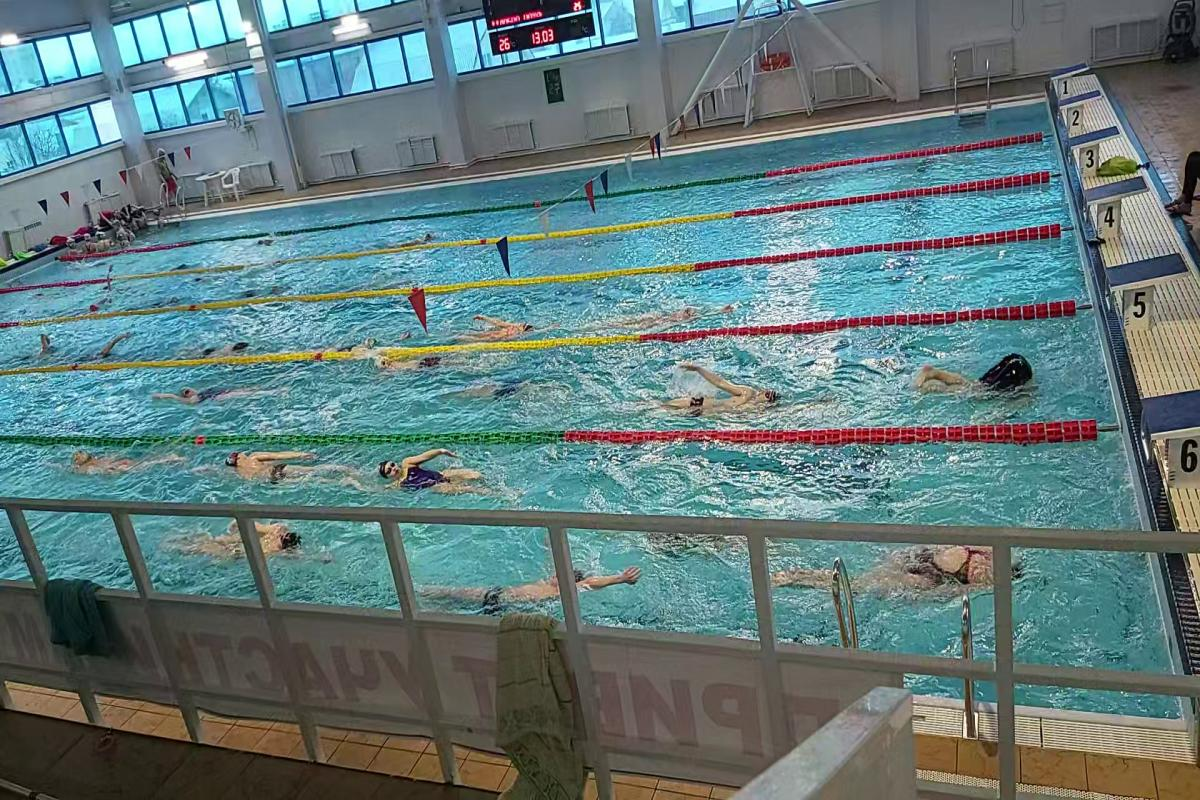swimmer: (782, 534, 1011, 608), (428, 554, 645, 612), (644, 359, 814, 424), (162, 513, 320, 571), (915, 341, 1039, 411), (367, 450, 497, 501), (213, 447, 356, 488), (60, 447, 198, 480), (151, 375, 267, 407), (448, 310, 554, 343), (605, 307, 720, 329), (369, 352, 464, 372), (193, 335, 260, 355), (90, 336, 144, 360), (330, 335, 383, 349)
